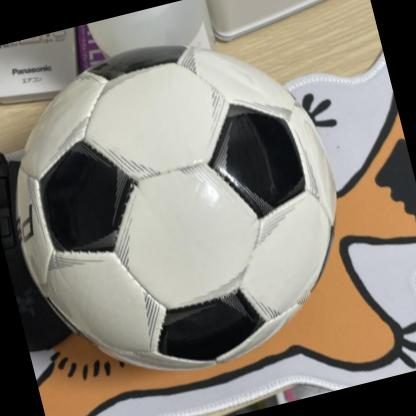ball: (0, 9, 370, 406)
